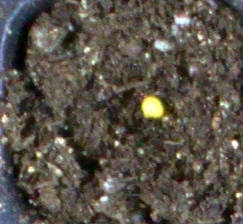pepper seed: (58, 38, 223, 156)
